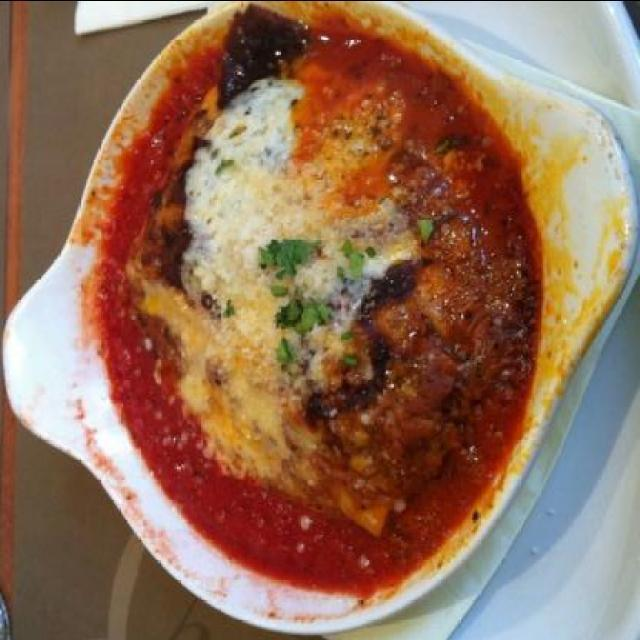Lasagna: (141, 44, 519, 556)
